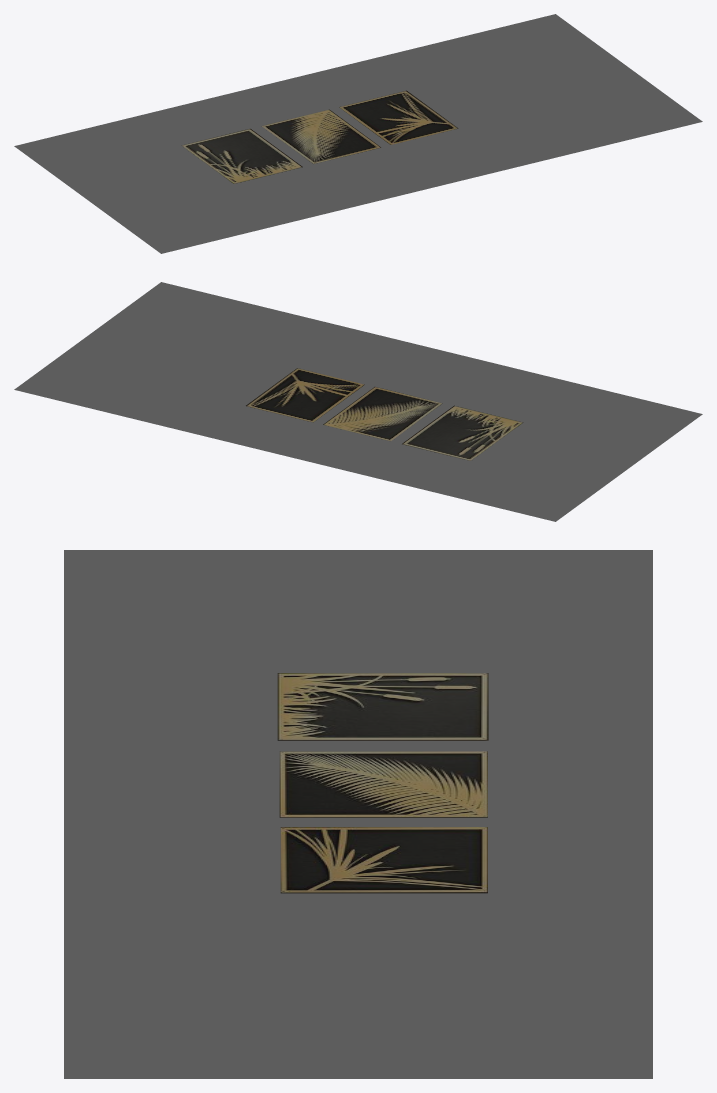
The picture shows the model from 3 angles, top to bottom: view 1: azimuth 30°, elevation 25°; view 2: azimuth 150°, elevation 25°; view 3: azimuth 270°, elevation 25°; orthographic projection. The views are drawn at different scales.
Visible parts, largest first — view 1: mesh_2_ROOT_Layer0_30_30_30_ss, mesh_3_ROOT__Component_49_Layer0_71_69_59_ss; view 2: mesh_2_ROOT_Layer0_30_30_30_ss, mesh_3_ROOT__Component_49_Layer0_71_69_59_ss; view 3: mesh_2_ROOT_Layer0_30_30_30_ss, mesh_3_ROOT__Component_49_Layer0_71_69_59_ss.
Boxes of the visible parts, left/top/right/bottom form: mesh_2_ROOT_Layer0_30_30_30_ss: left=14, top=14, right=702, bottom=253; mesh_3_ROOT__Component_49_Layer0_71_69_59_ss: left=181, top=90, right=458, bottom=183; mesh_2_ROOT_Layer0_30_30_30_ss: left=14, top=282, right=702, bottom=521; mesh_3_ROOT__Component_49_Layer0_71_69_59_ss: left=246, top=368, right=523, bottom=460; mesh_2_ROOT_Layer0_30_30_30_ss: left=64, top=550, right=652, bottom=1078; mesh_3_ROOT__Component_49_Layer0_71_69_59_ss: left=277, top=673, right=488, bottom=893.
Size of the model in its own units: 621923 by 3535 by 292868.
Materials: 3 (1 with a texture image).
